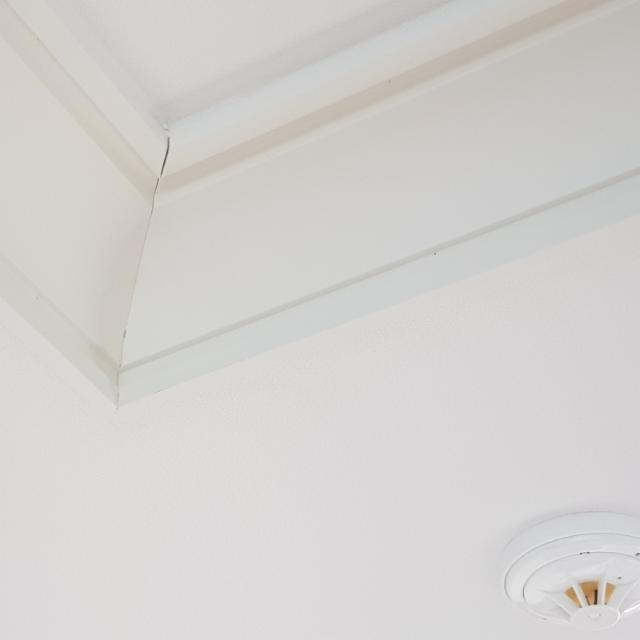Smoke-Detector: (494, 511, 640, 631)
